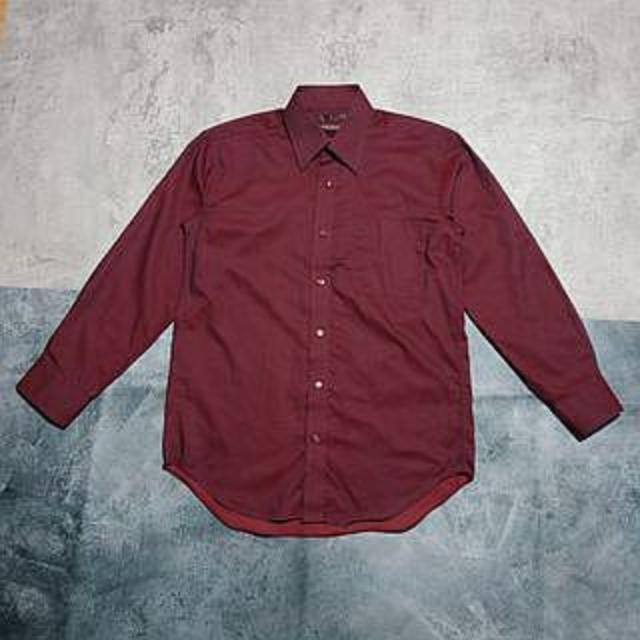SHIRT: (23, 76, 630, 546)
